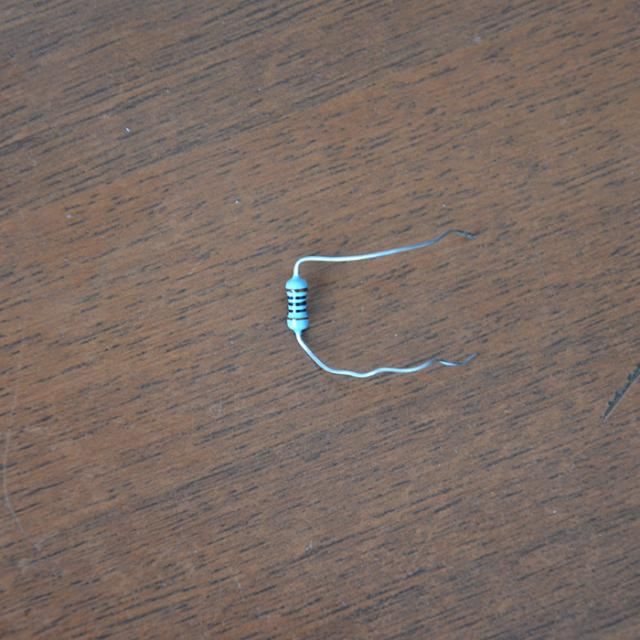black: (290, 296, 304, 300), (290, 309, 305, 312), (290, 303, 304, 306)
brown: (287, 288, 306, 293), (288, 317, 307, 321)
resistor: (274, 275, 318, 335)
